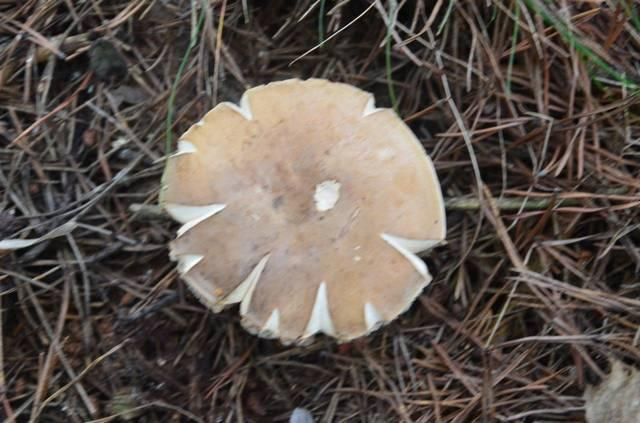Non-edible Mushroom: (157, 75, 447, 346)
